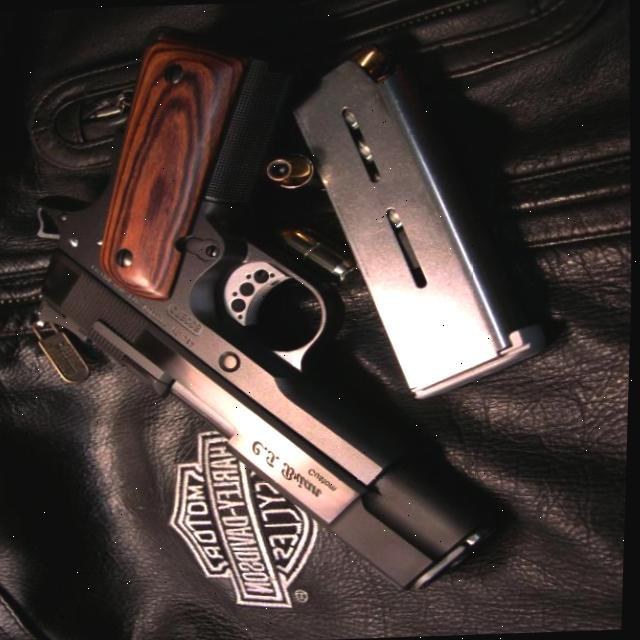gun: (15, 17, 519, 602)
